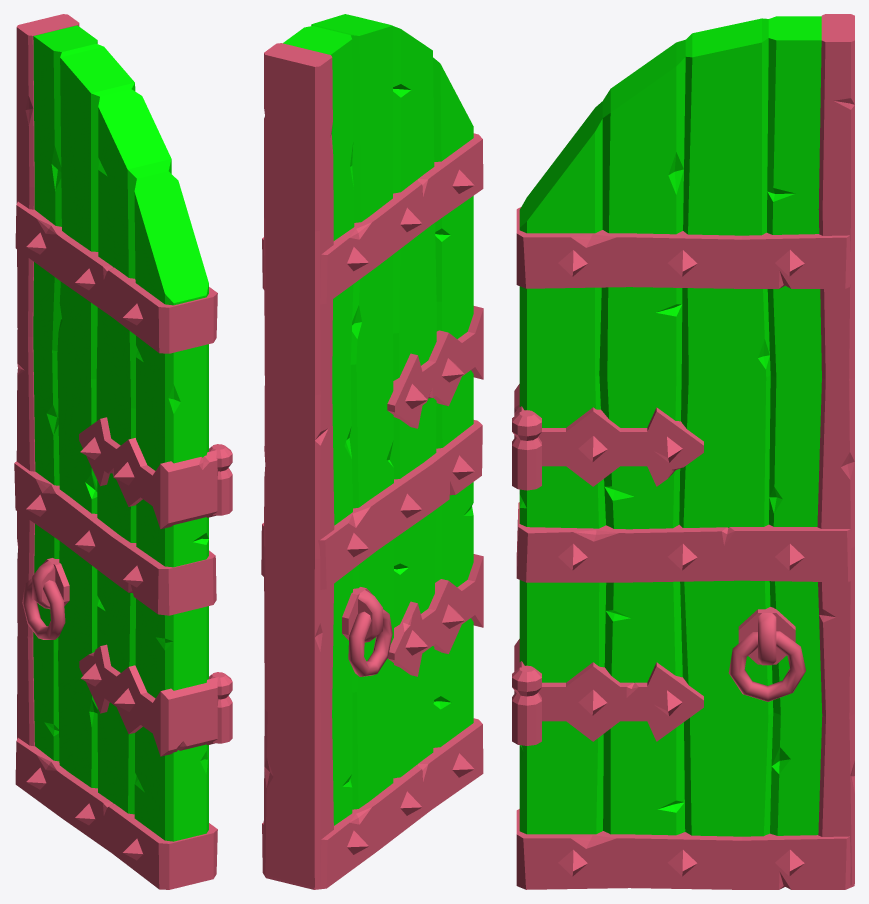
File: SM_Gate_Door_R.fbx
3 views of the same model, side by side, from view 1: azimuth 30°, elevation 25°; view 2: azimuth 150°, elevation 25°; view 3: azimuth 270°, elevation 25° (orthographic). The views are drawn at different scales.
Parts seen in each view (by area): view 1: Mesh; view 2: Mesh; view 3: Mesh.
Boxes of the visible parts, x1,y1,x2,y2 form: Mesh: [14, 14, 232, 889]; Mesh: [261, 14, 483, 889]; Mesh: [512, 14, 854, 889].
Bounding box in the file's own units: 61.35 × 492 × 181.
